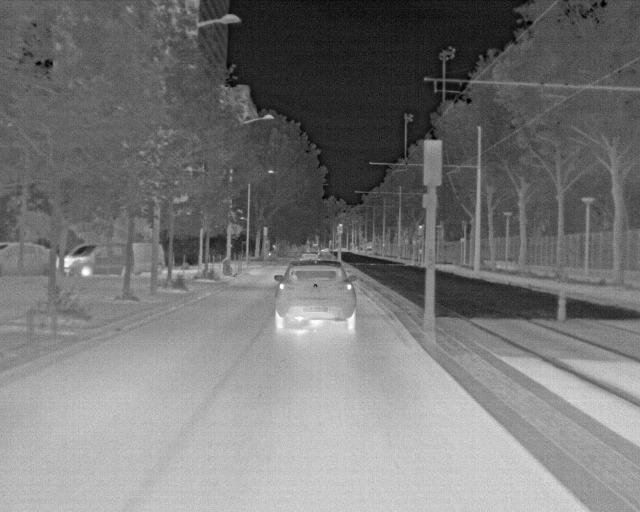car: (274, 259, 358, 330), (64, 242, 134, 277), (0, 242, 59, 275), (129, 243, 166, 275), (315, 251, 336, 260), (300, 249, 318, 259)
light: (423, 140, 441, 186), (418, 226, 422, 235), (339, 224, 343, 233), (264, 227, 268, 236)
sign: (423, 194, 438, 208)
